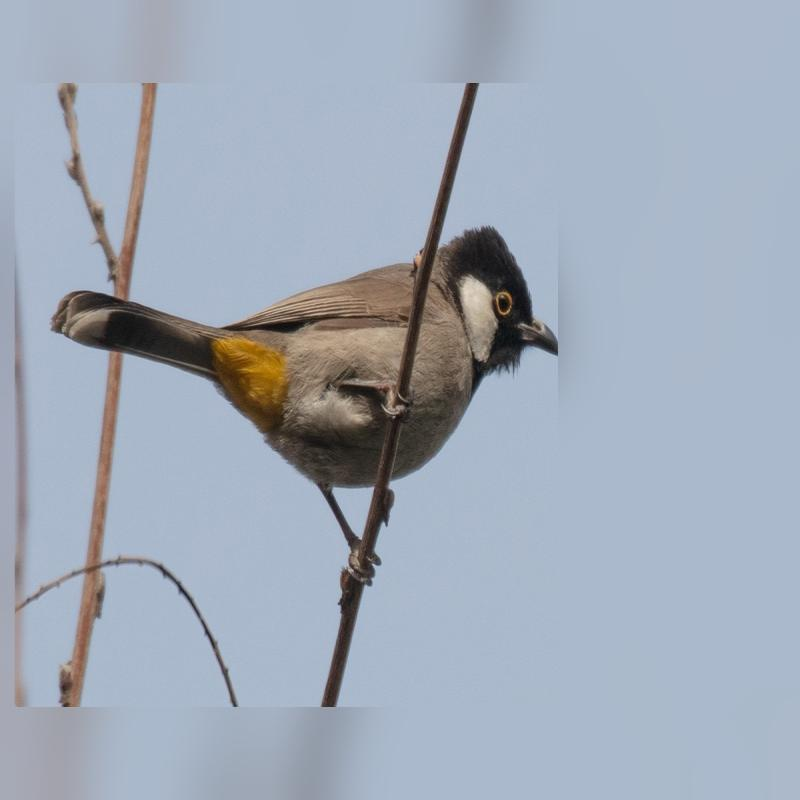white-eared bulbul: (47, 202, 561, 534)
